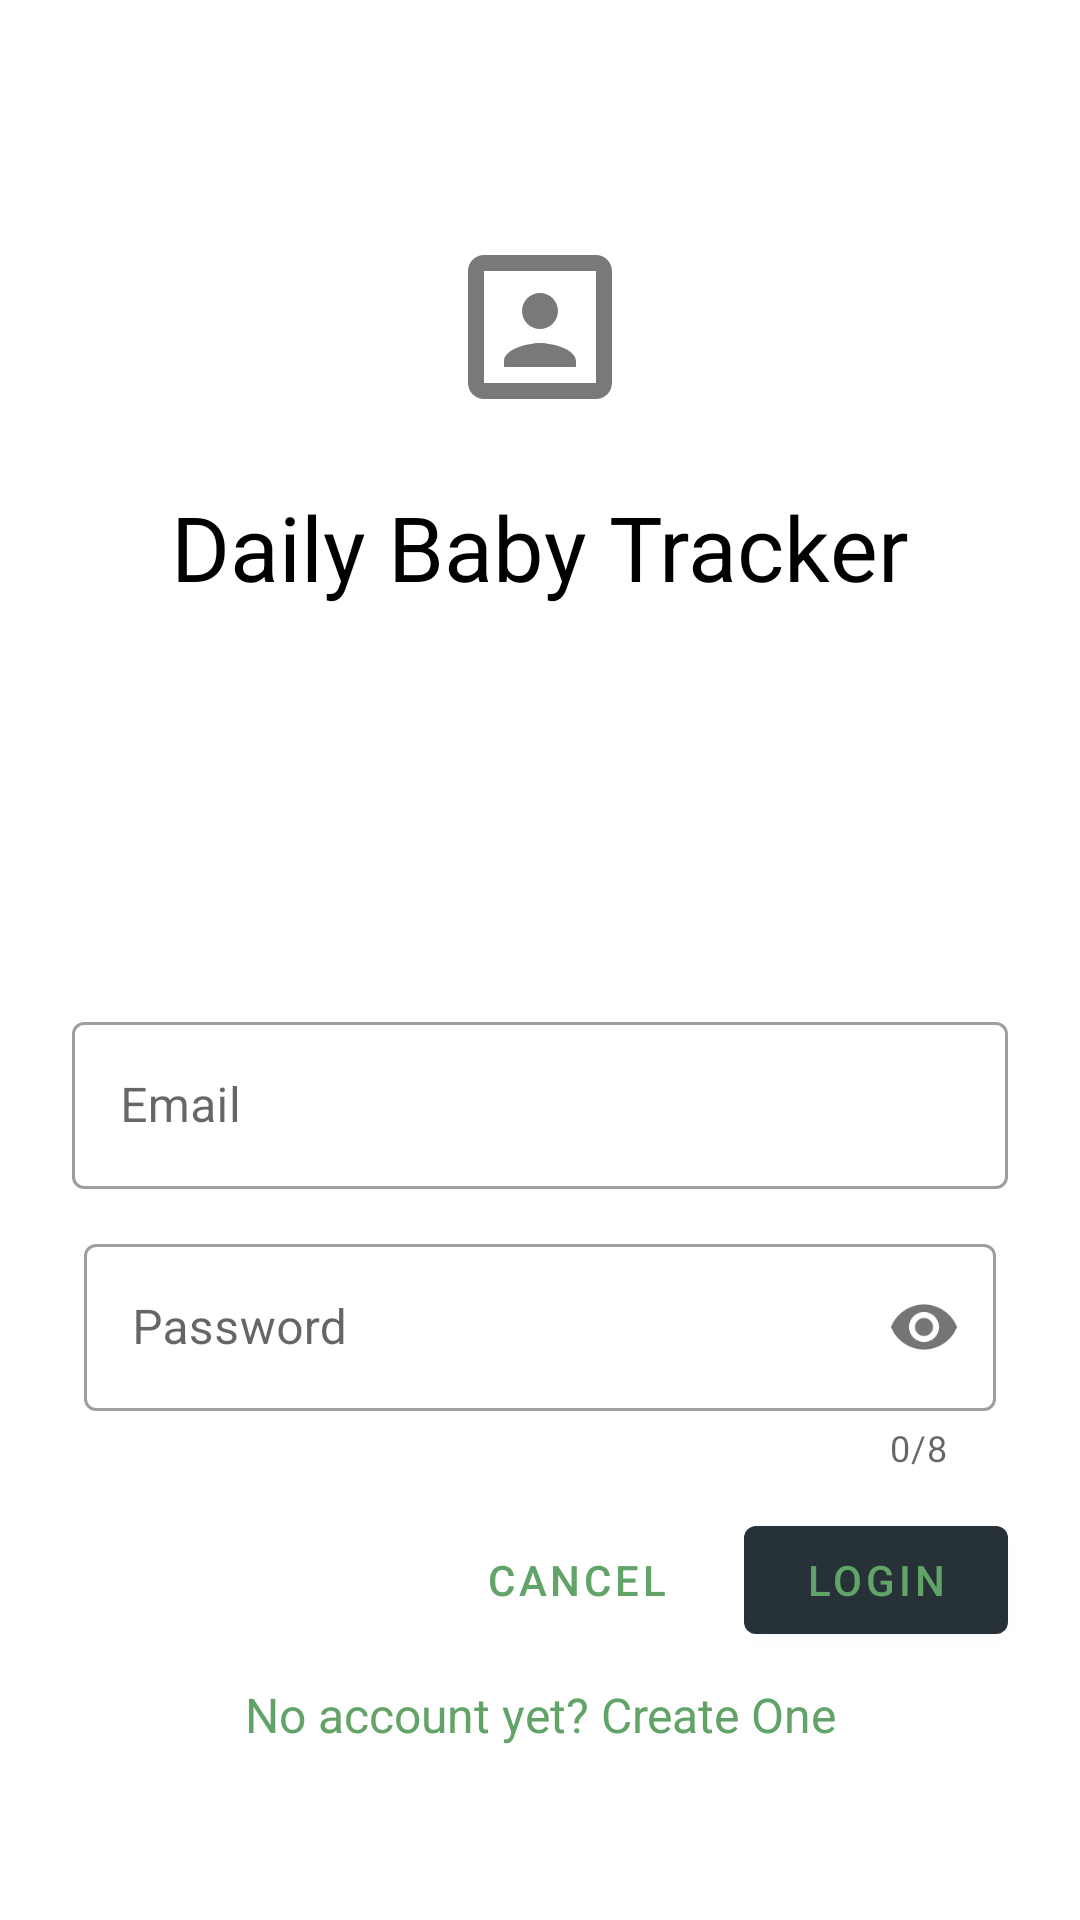

Point at icon controls on the screen. Image size 1080 x 1920, points as point (x, y).
portrait: point (540, 327)
